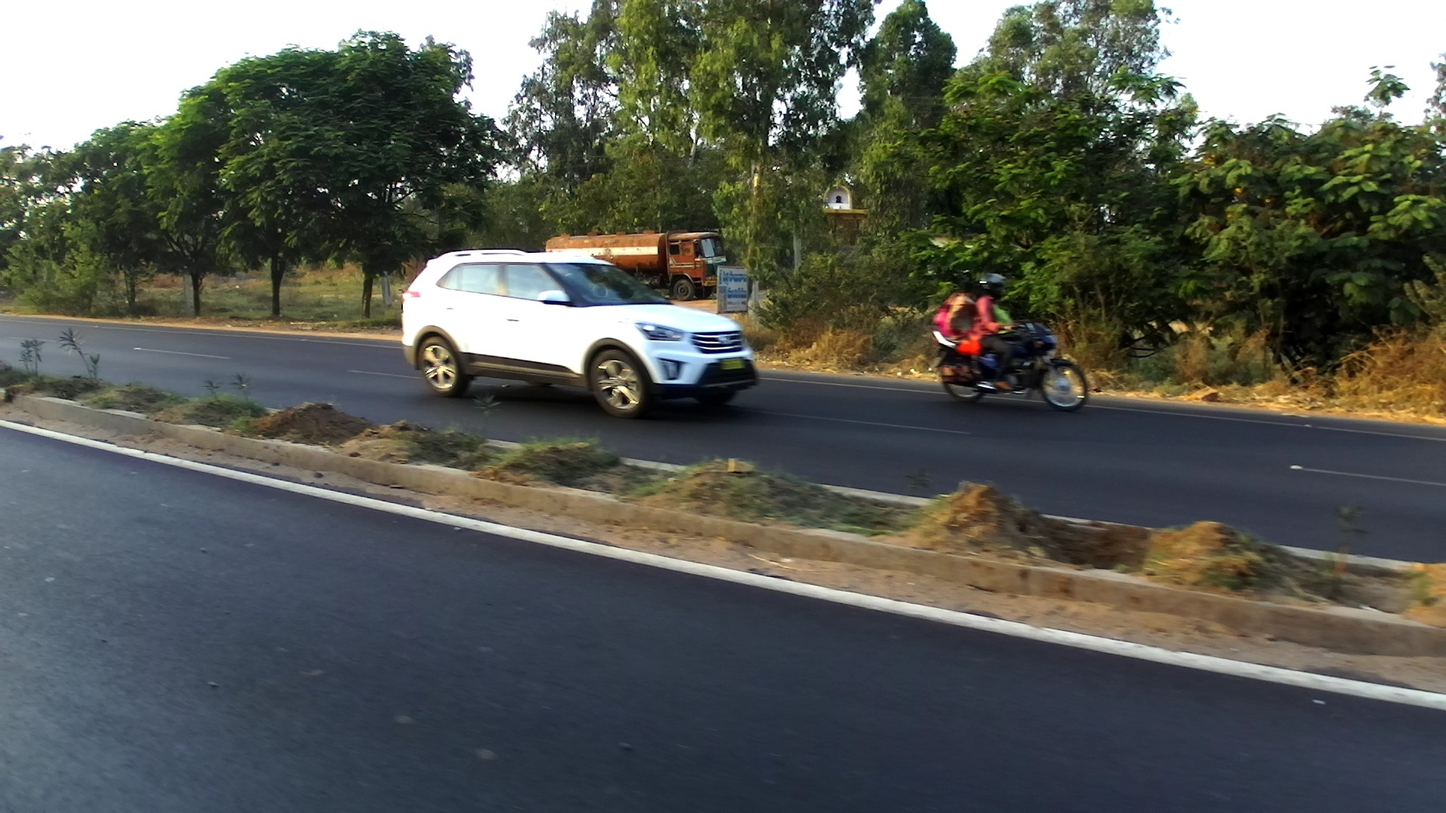car: (401, 248, 761, 422)
motorcycle: (929, 312, 1088, 411)
rider: (974, 271, 1026, 393), (935, 279, 982, 348)
truck: (545, 229, 728, 301)
